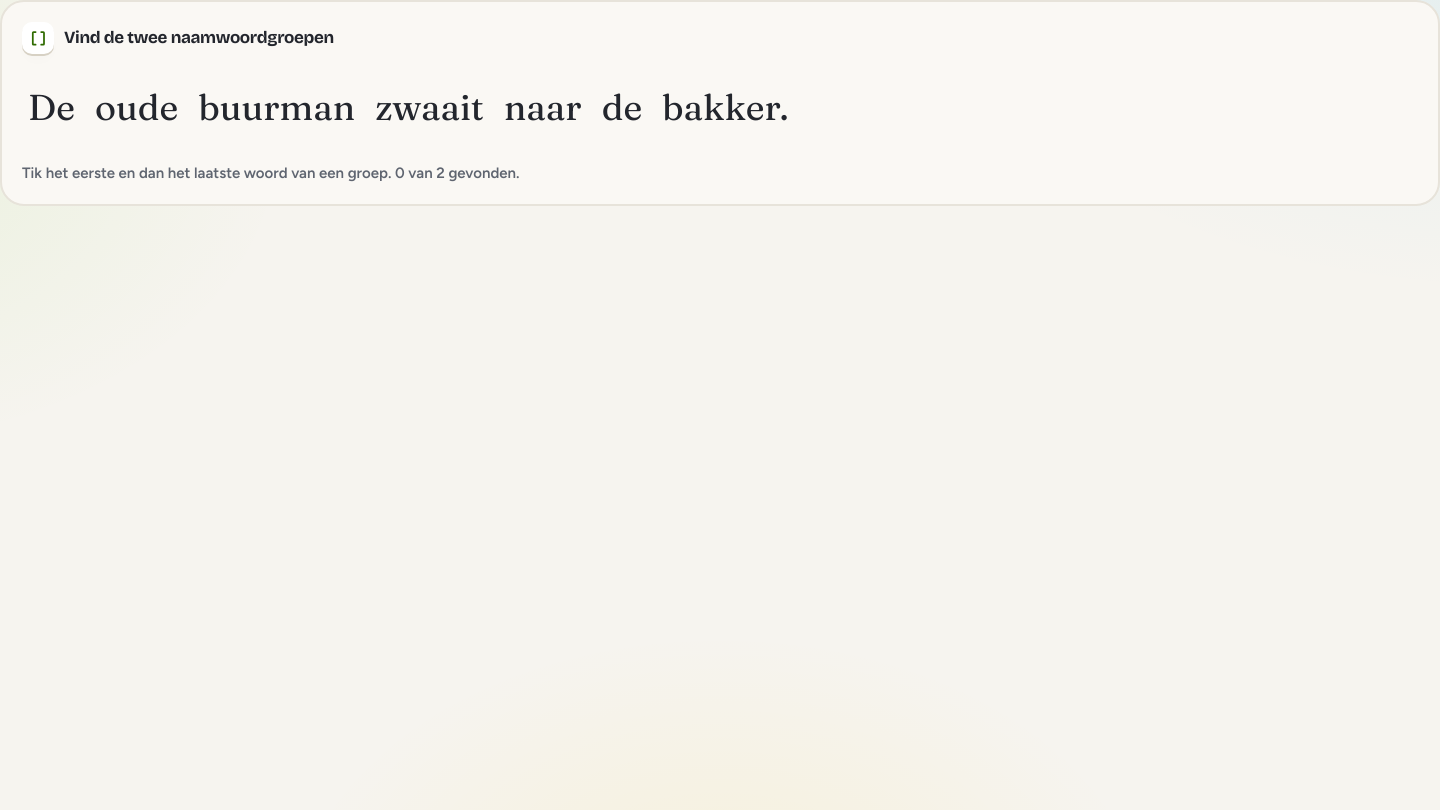
groepenjager › een val legt uit; twee tikken per groep vinden alle groepen
Click the button "oude" at (137, 108), box [89, 70, 184, 146]
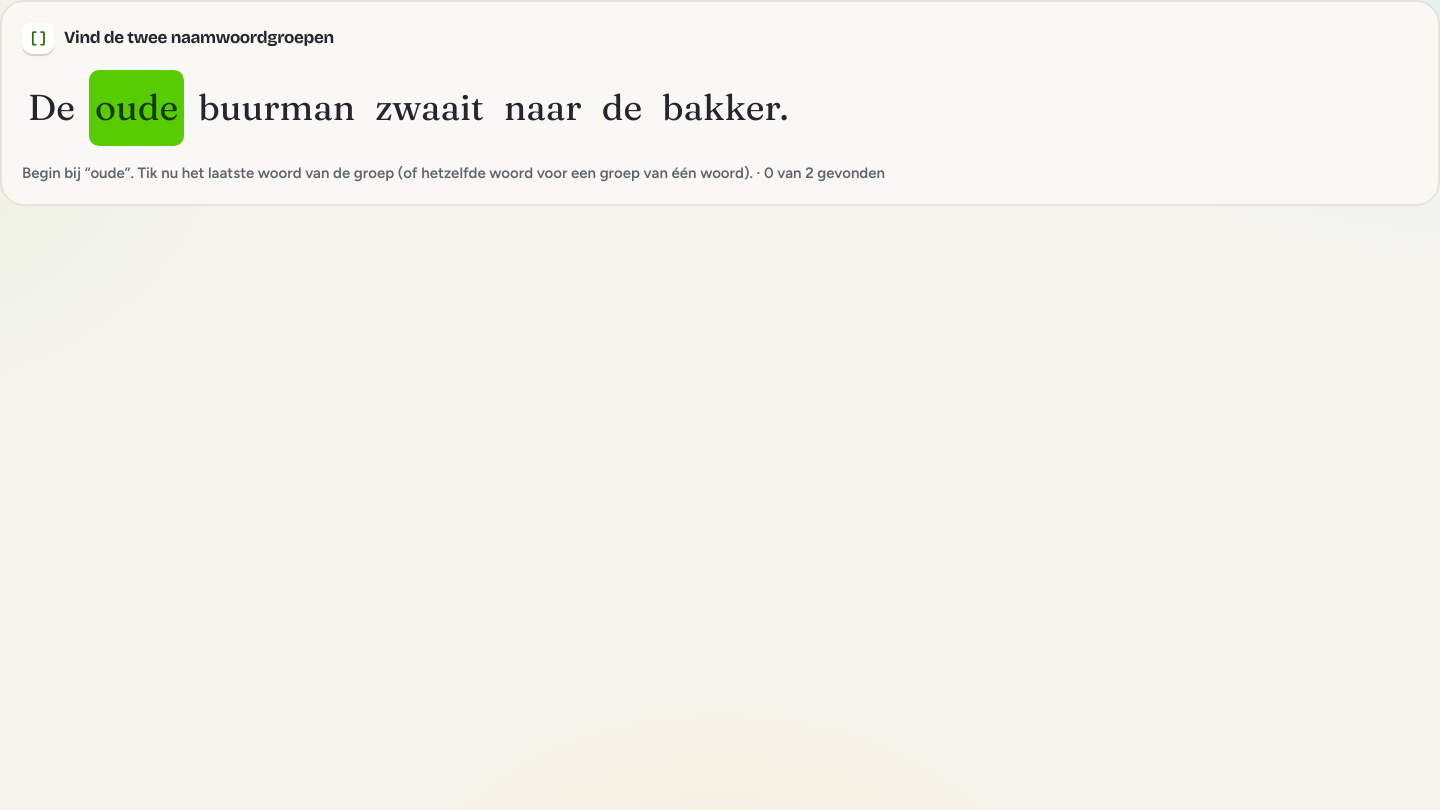
Expected: the button "oude" is pressed, [89, 70, 184, 146]
Click the button "zwaait" at (430, 108), box [369, 70, 490, 146]
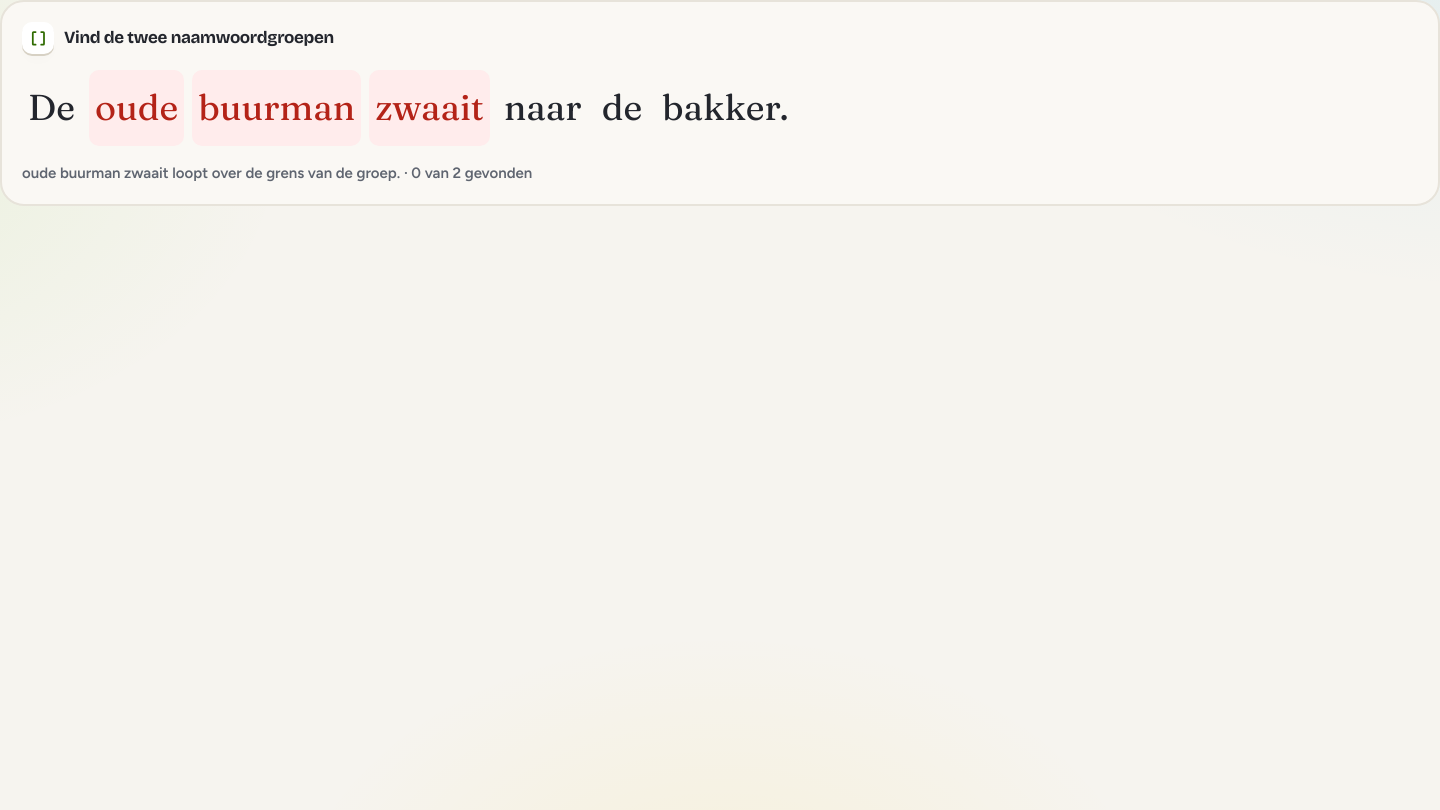
Expected: the message shows "loopt over de grens van de groep", [22, 164, 532, 182]
Van achter naar voor tikken mag ook.
Click the button "buurman" at (277, 108), box [192, 70, 361, 146]
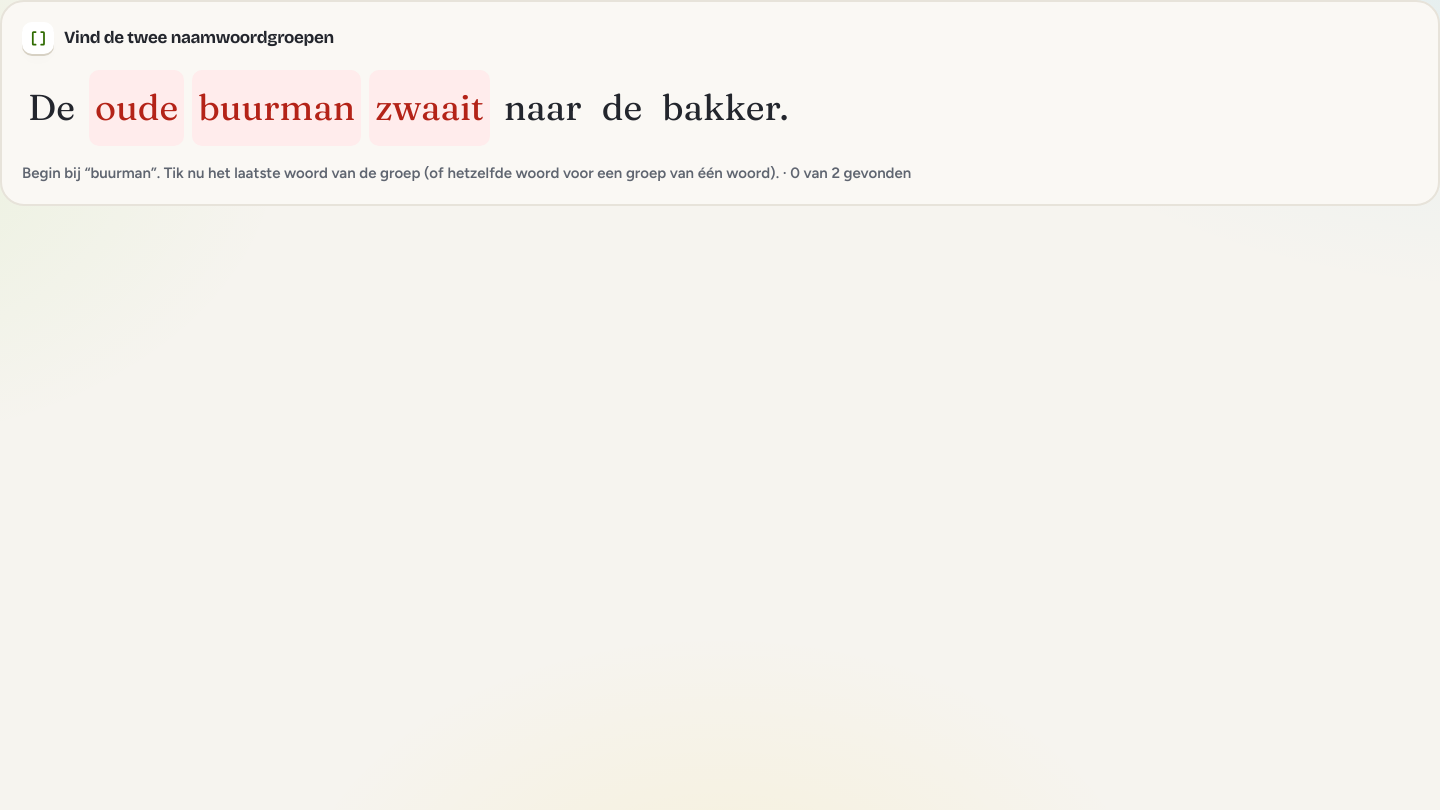
Click the button "De" at (51, 108), box [22, 70, 81, 146]
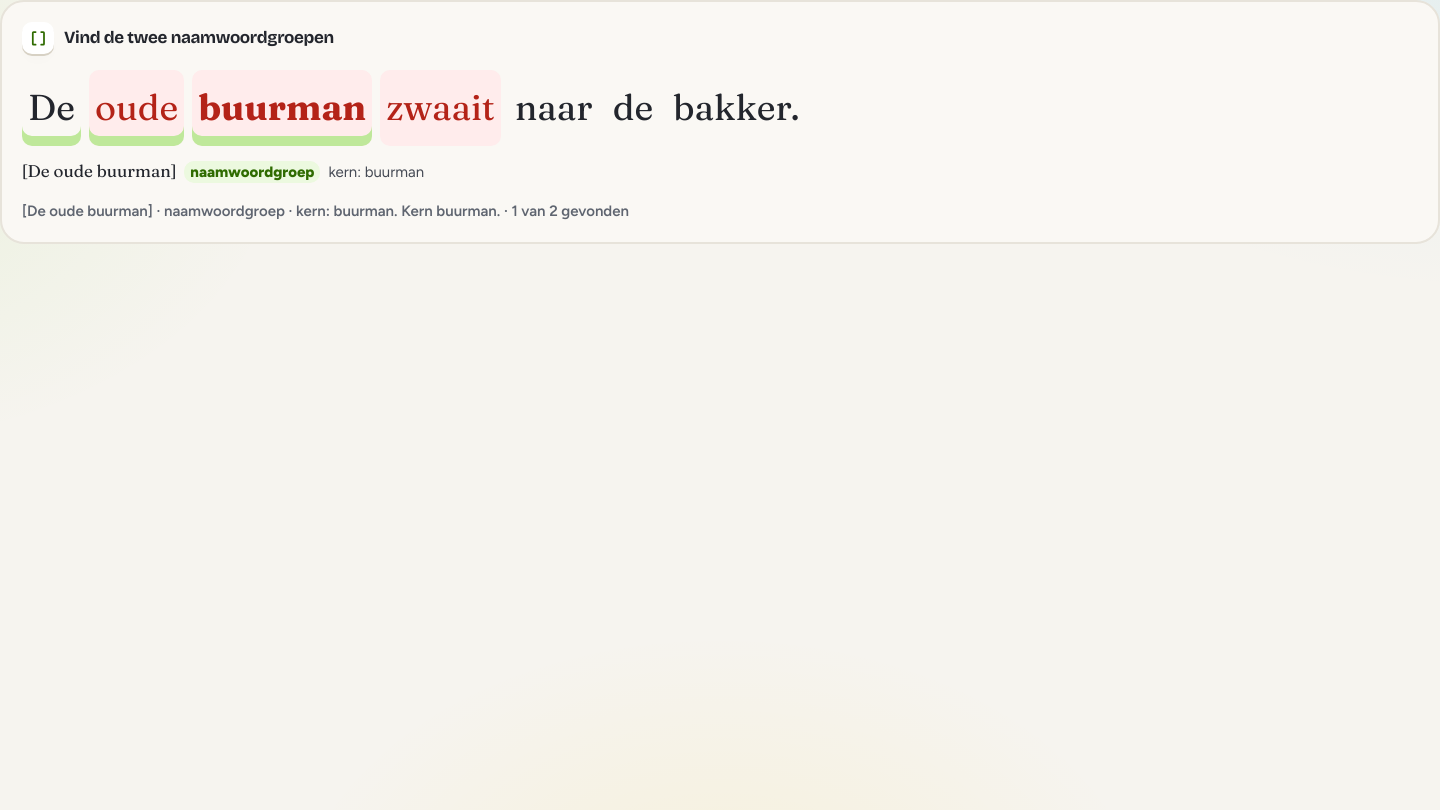
Expected: the message shows "[De oude buurman] · naamwoordgroep · kern: buurman. Kern buurman.", [22, 202, 629, 220]
Click the button "de" at (633, 108), box [607, 70, 659, 146]
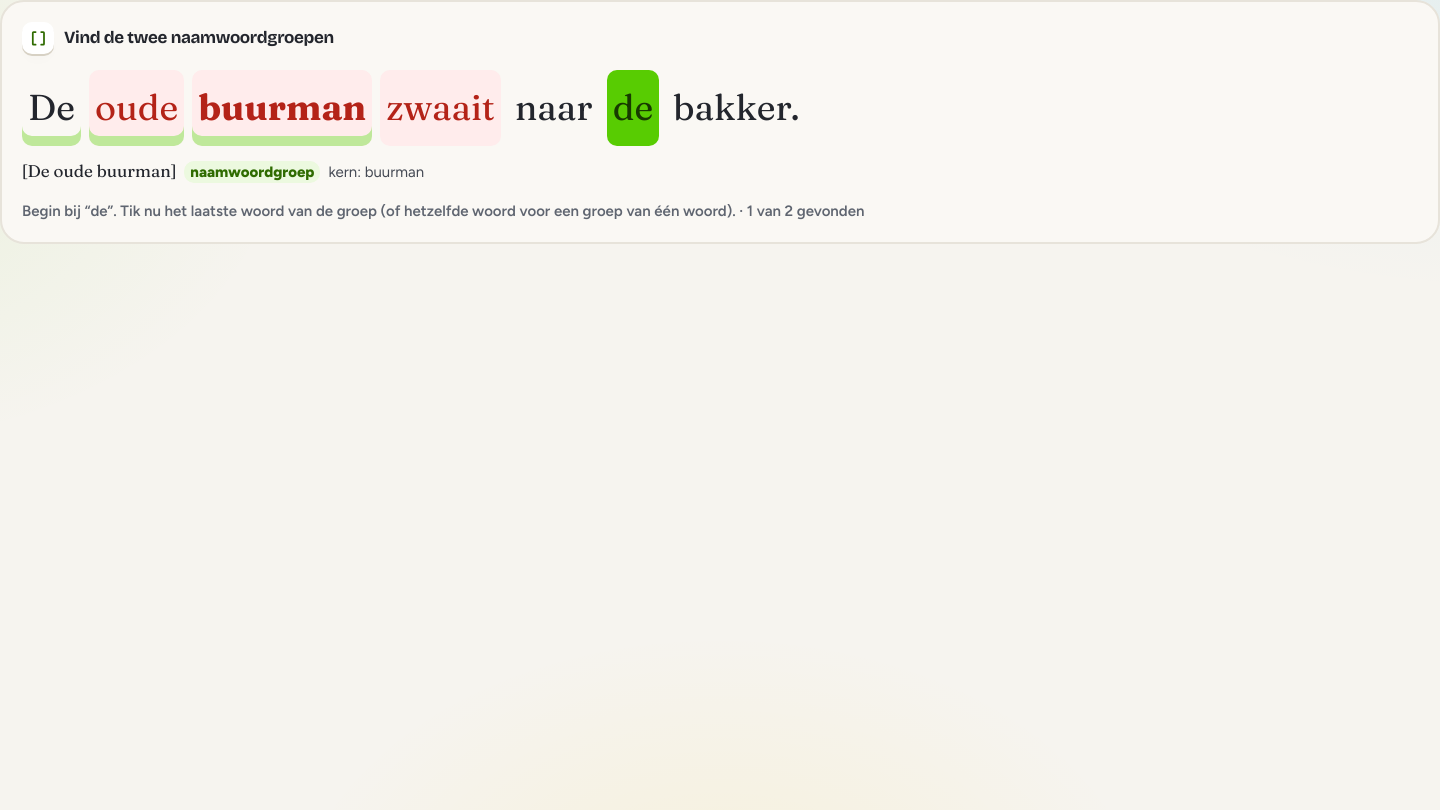
Click the button "bakker." at (736, 108), box [667, 70, 806, 146]
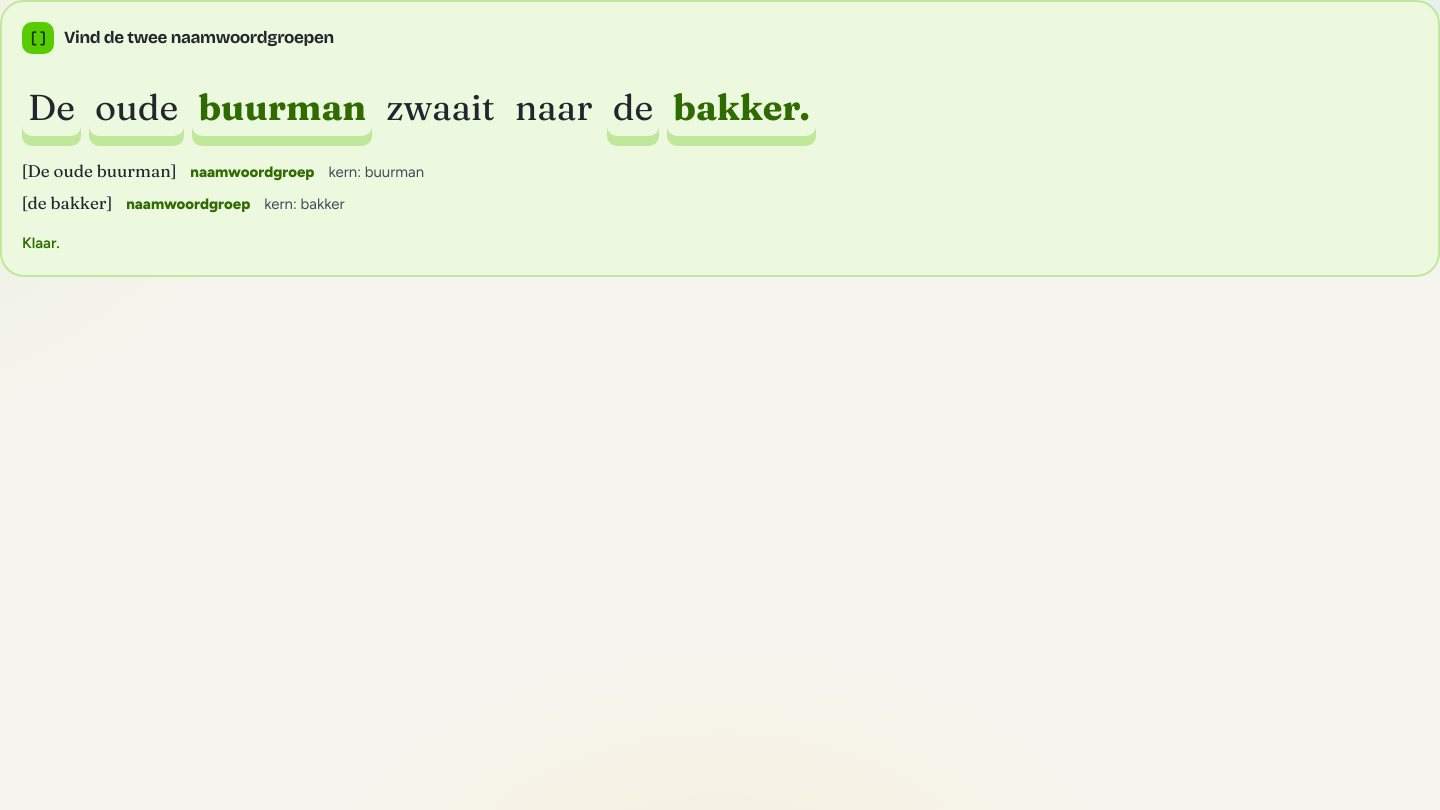
Expected: the list named "Gevonden groepen" shows "[de bakker]", [28, 160, 171, 181]
Expected: the message reads "Klaar.", [22, 234, 60, 252]
